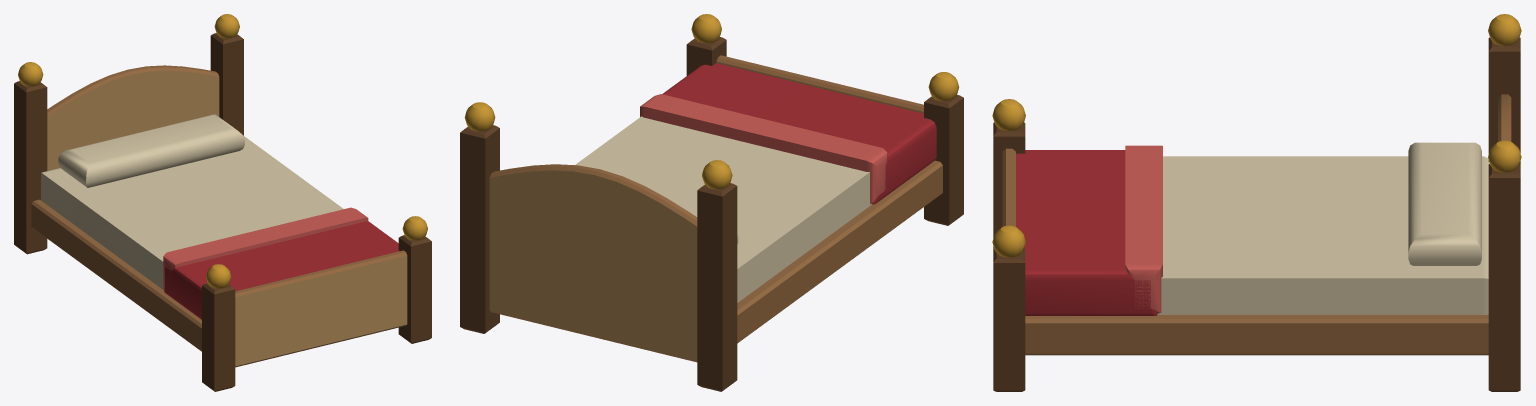
File: Bed_15.glb
3 renders of one model, left to right at view 1: azimuth 30°, elevation 25°; view 2: azimuth 150°, elevation 25°; view 3: azimuth 270°, elevation 25°, orthographic. The views are drawn at different scales.
Parts seen in each view (by area): view 1: Bed_15; view 2: Bed_15; view 3: Bed_15.
Part boxes in pixels (x1,y1,x2,y2): Bed_15: (14,14,431,391); Bed_15: (460,14,963,391); Bed_15: (992,14,1521,391).
Bounding box in the file's own units: 4.97 × 4.03 × 7.9.
